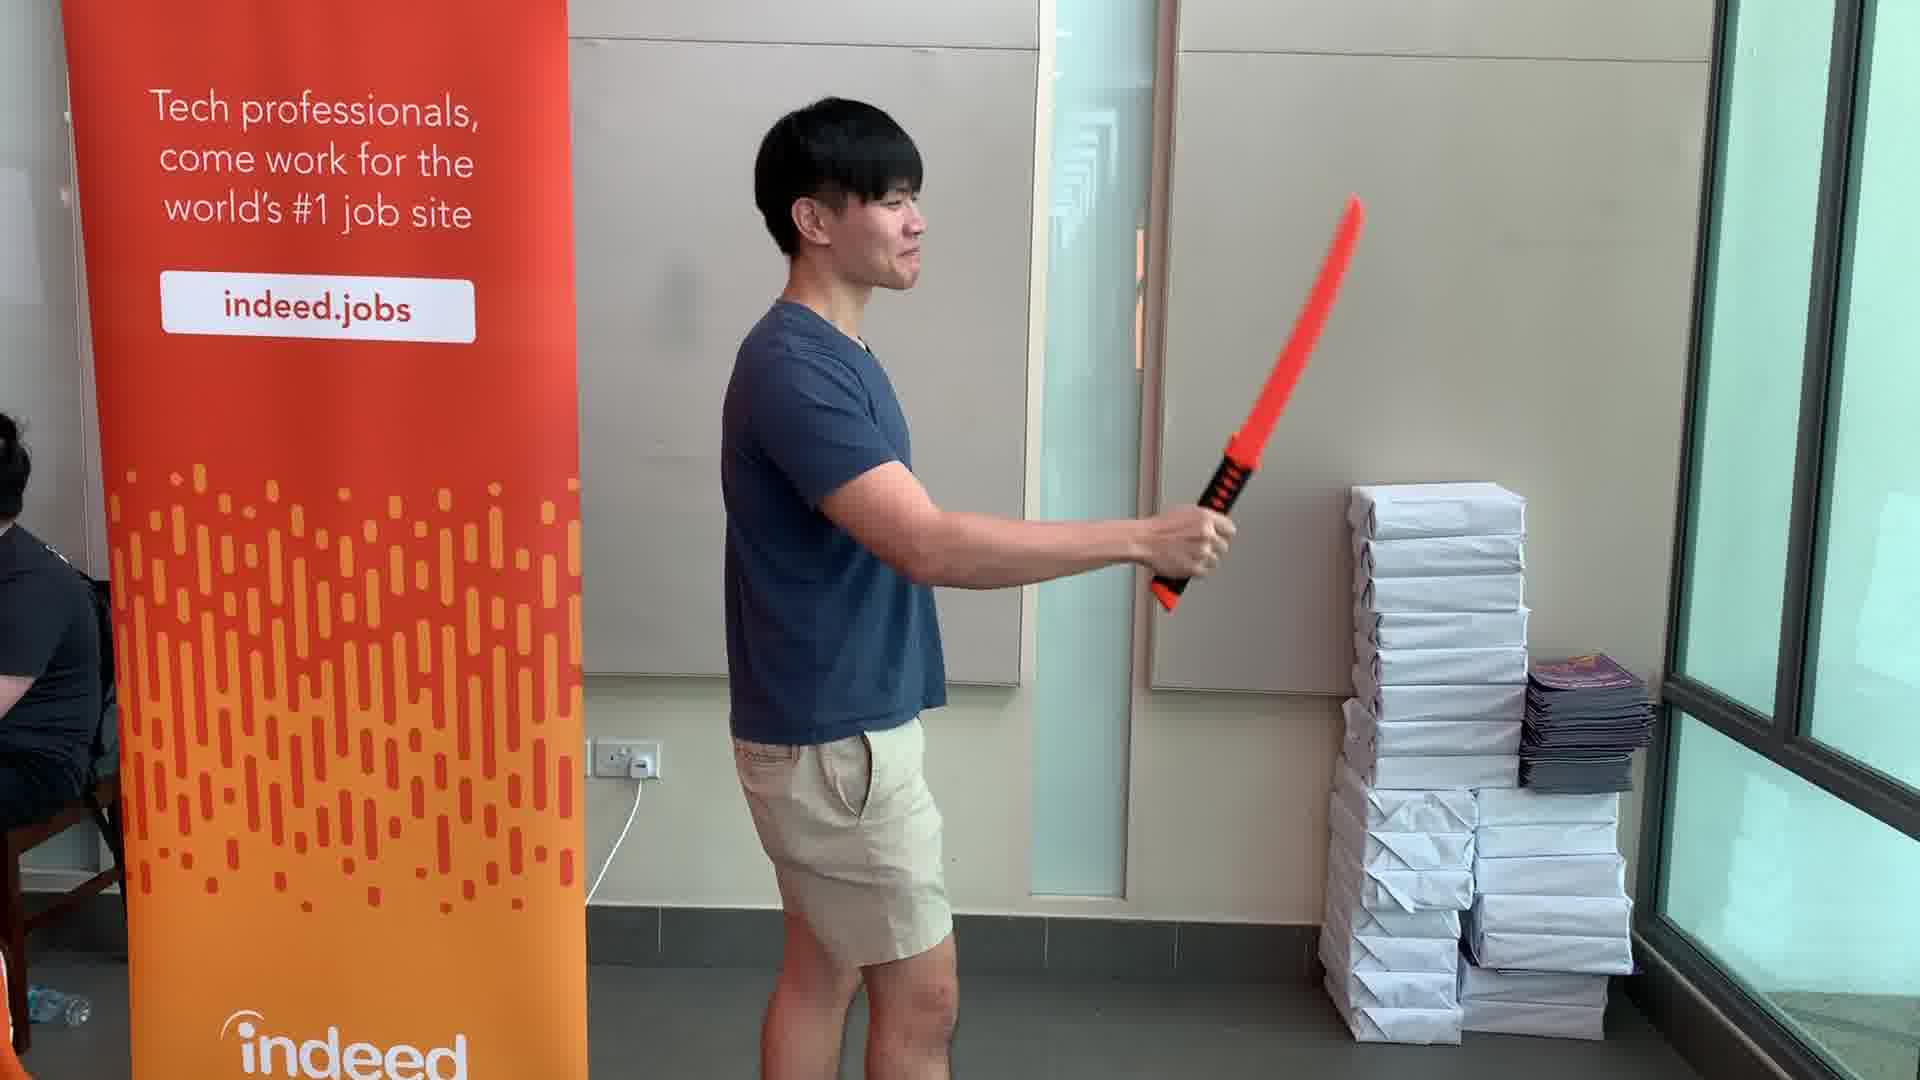knife: (1135, 185, 1367, 620)
